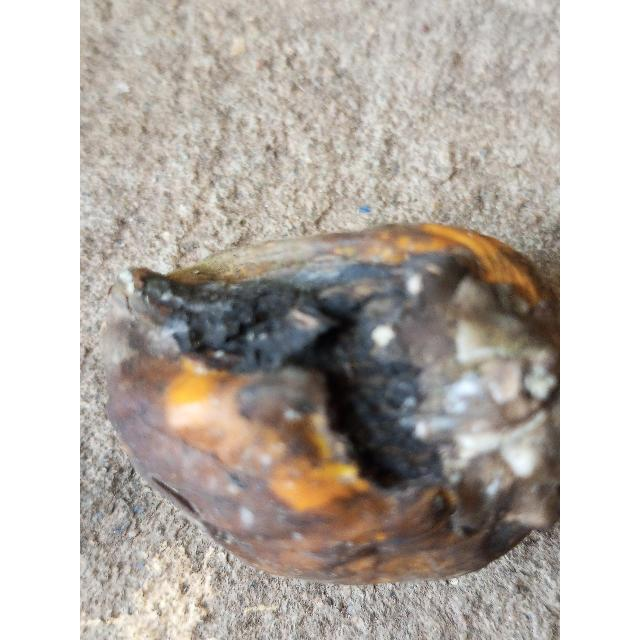damaged: (102, 223, 560, 589)
